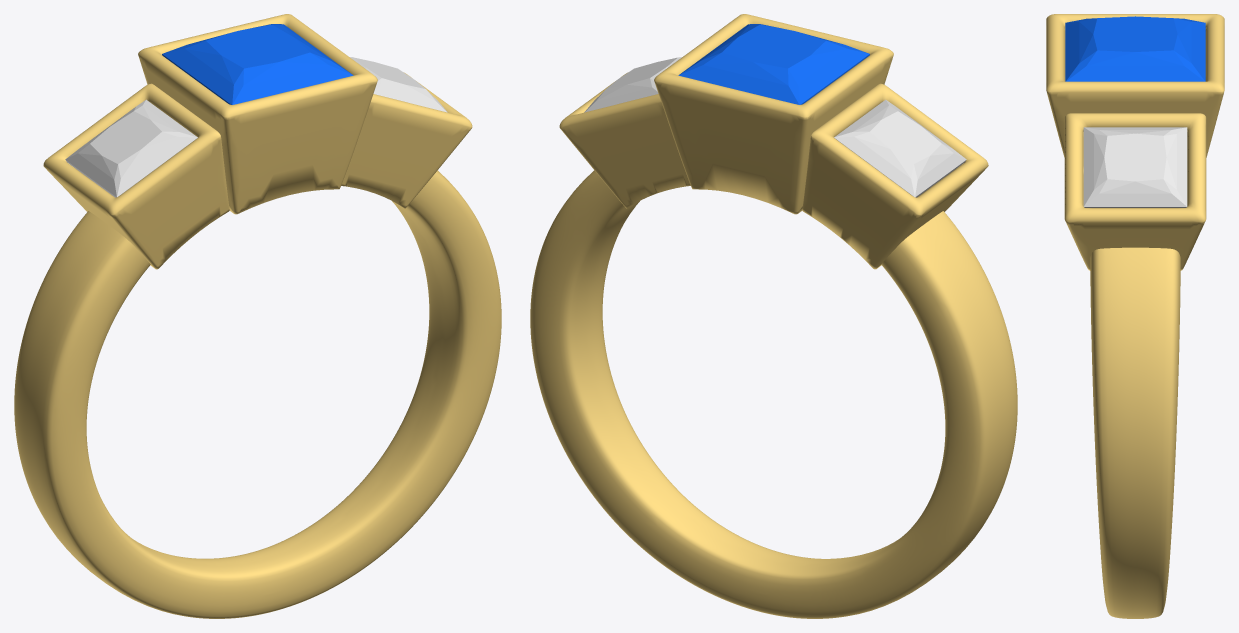
The model's file is bluesapphire-princess-yellowgold-bezelset-straighttaperedband-3stone.glb.
3 views of the same model, side by side, from view 1: azimuth 30°, elevation 25°; view 2: azimuth 150°, elevation 25°; view 3: azimuth 270°, elevation 25° (orthographic).
Visible parts, largest first — view 1: metal, stone, side, side.001; view 2: metal, stone, side, side.001; view 3: metal, stone, side.001.
Part boxes in pixels (bbox=[...]): metal: bbox=[14, 14, 501, 618]; stone: bbox=[162, 24, 353, 104]; side: bbox=[65, 99, 197, 197]; side.001: bbox=[350, 57, 447, 112]; metal: bbox=[530, 14, 1017, 618]; stone: bbox=[678, 24, 869, 104]; side: bbox=[834, 99, 966, 197]; side.001: bbox=[584, 57, 681, 112]; metal: bbox=[1046, 14, 1224, 618]; stone: bbox=[1065, 16, 1205, 81]; side.001: bbox=[1083, 127, 1187, 207].
Bounding box in the file's own units: 20.49 × 23.86 × 6.89.
